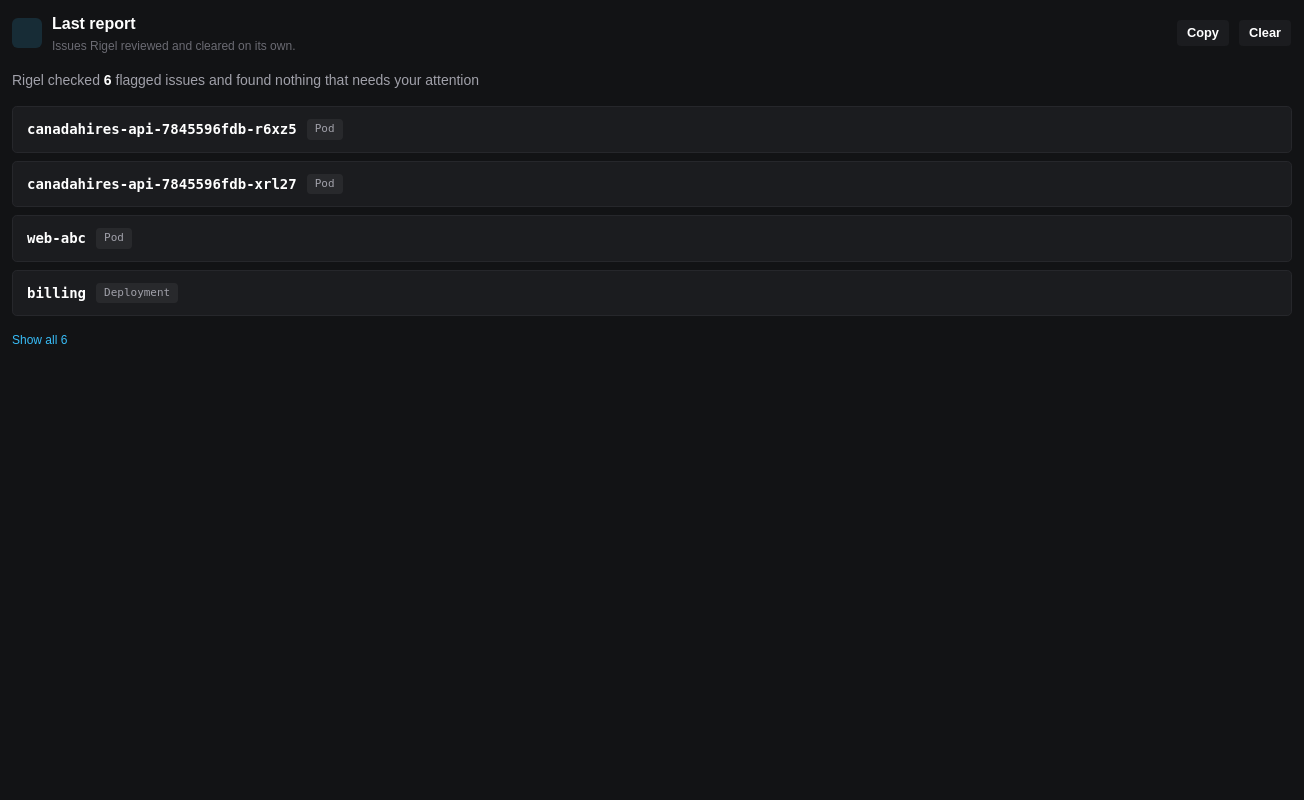
LastReportCard › shows a full-log expander when the reason spans many lines
This screenshot has width=1304, height=800.
What coordinates should you click on to do the following:
click the text "web-abc"
I would click on:
 (56, 238)
Its box is x1=27 y1=228 x2=86 y2=248.
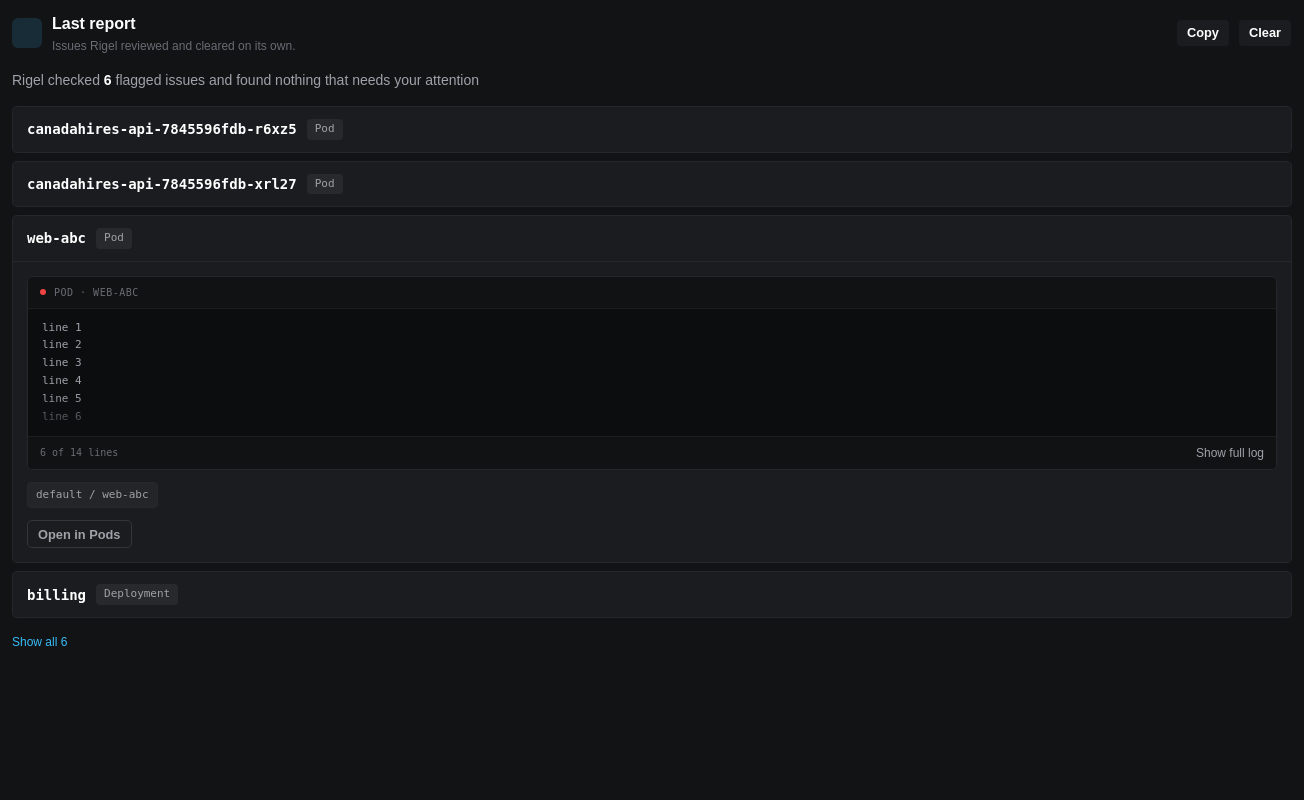
Expected: the text "line 14" is not shown
Expected: the text "6 of 14 lines" is shown, x1=40 y1=445 x2=118 y2=460
What coordinates should you click on to do the following:
click the button "6 of 14 lines Show full log"
I would click on:
 (79, 453)
Its box is x1=28 y1=436 x2=1276 y2=469.
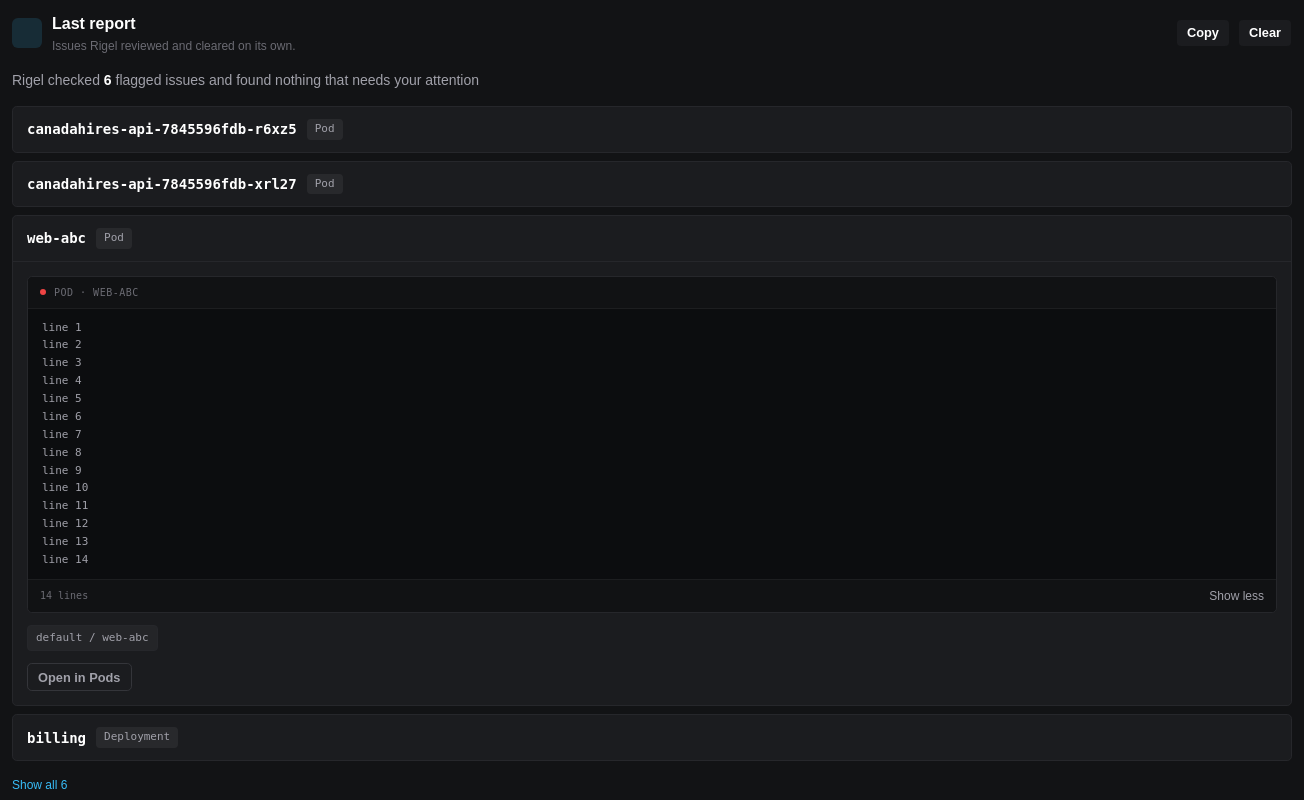
Expected: the text "line 14" is shown, x1=42 y1=553 x2=88 y2=566
